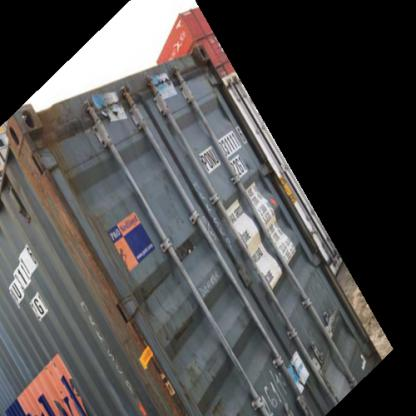Damage: (91, 257, 155, 351), (22, 164, 77, 230), (34, 101, 74, 147), (96, 84, 132, 118), (189, 42, 208, 70)
